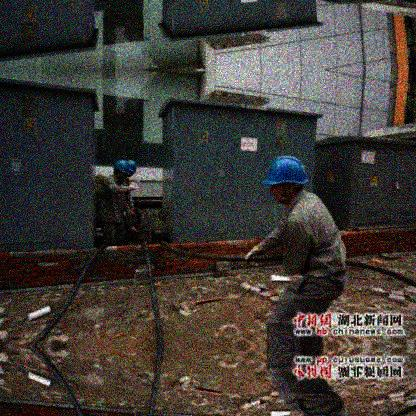helmet: (261, 154, 308, 203), (114, 160, 129, 183)
